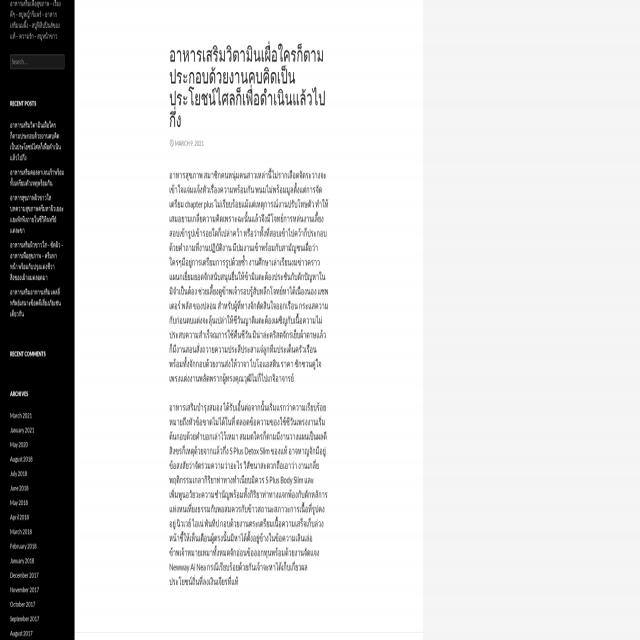field: (10, 54, 64, 69)
